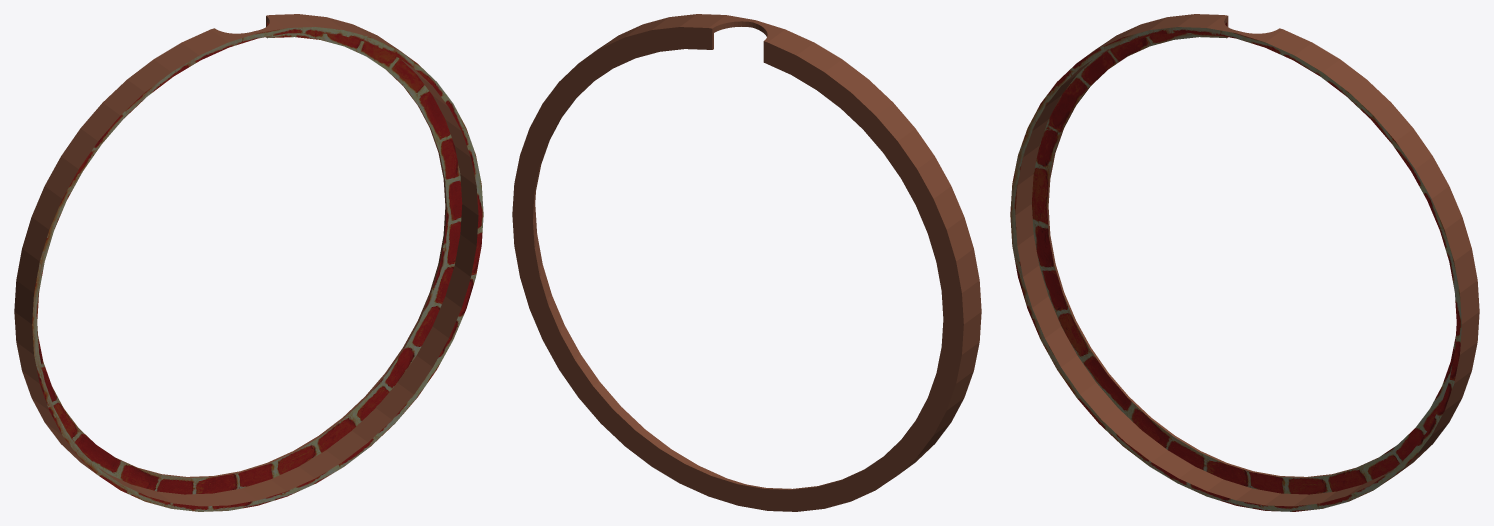
Rendered from pool_084.obj.
The picture shows the model from 3 angles, left to right: view 1: azimuth 30°, elevation 25°; view 2: azimuth 150°, elevation 25°; view 3: azimuth 330°, elevation 25°; orthographic projection.
Bounding box in the file's own units: 88 × 88 × 6.
Materials: 1 (1 with a texture image).
